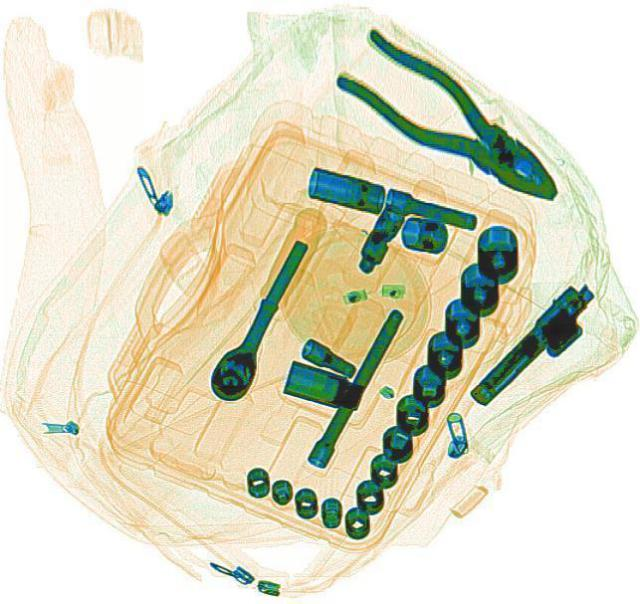Gun: (461, 274, 612, 416)
Pliers: (319, 21, 583, 222)
